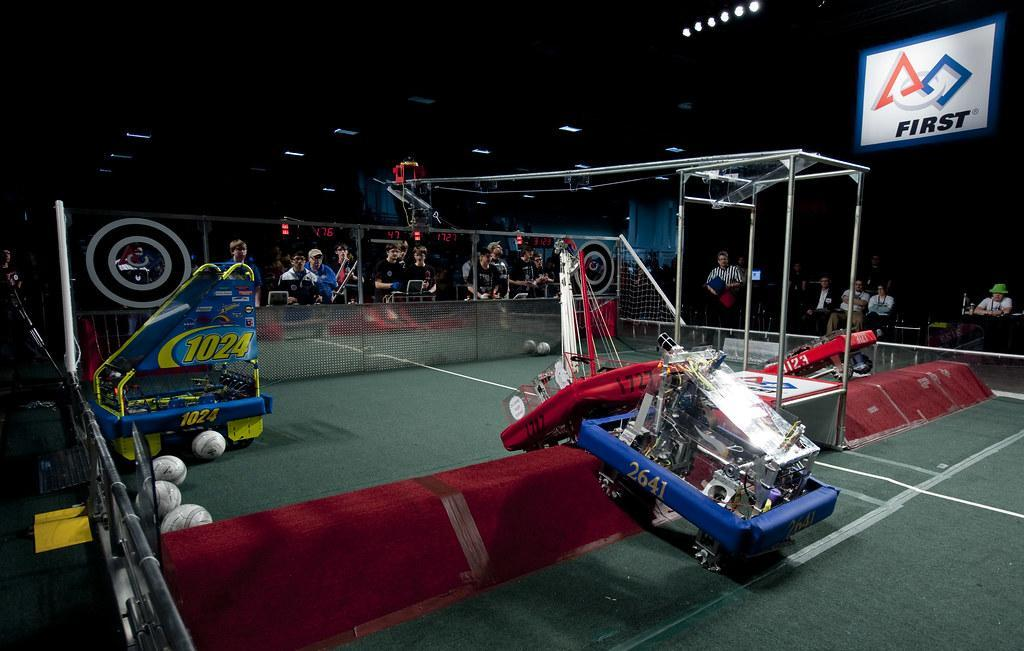robot: (574, 326, 842, 579), (85, 252, 279, 467)
